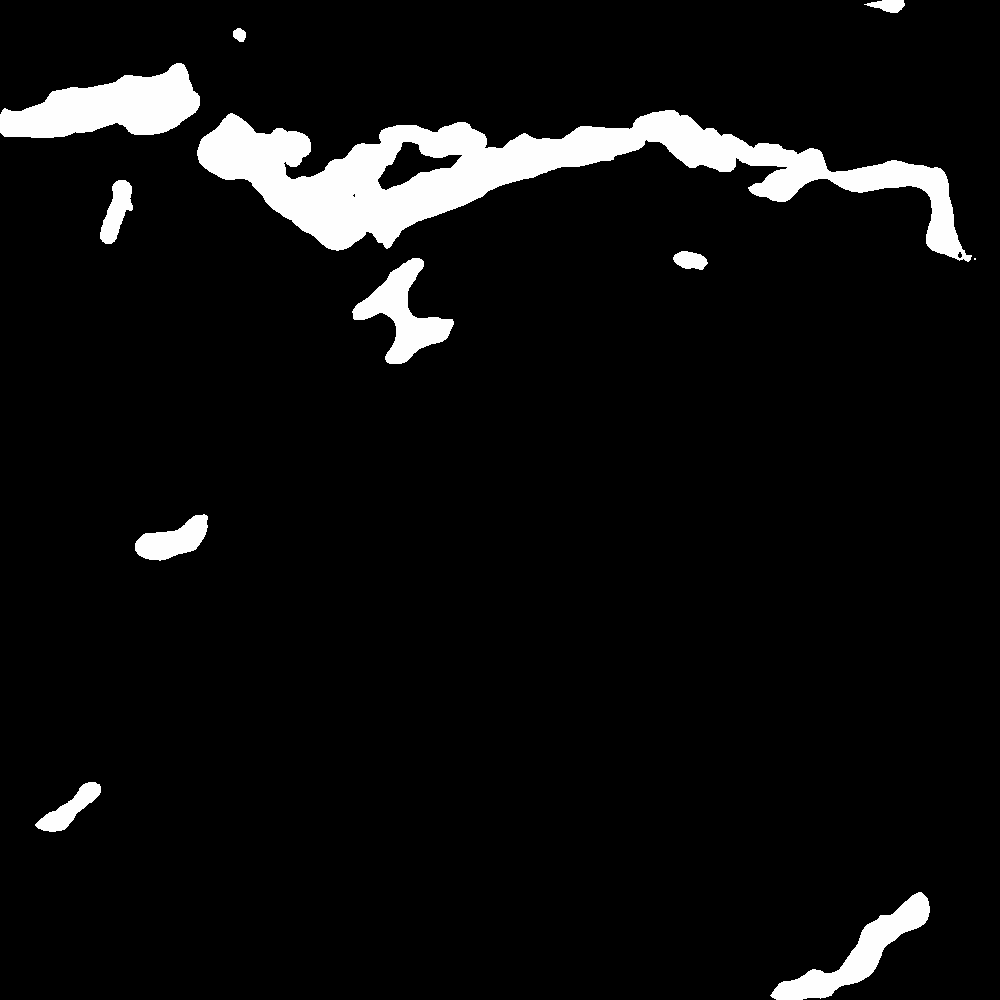illegal: (207, 120, 386, 248), (381, 125, 553, 223), (51, 74, 206, 129), (852, 166, 937, 194), (687, 121, 742, 163), (556, 133, 598, 166), (740, 174, 793, 198), (777, 140, 818, 170)
